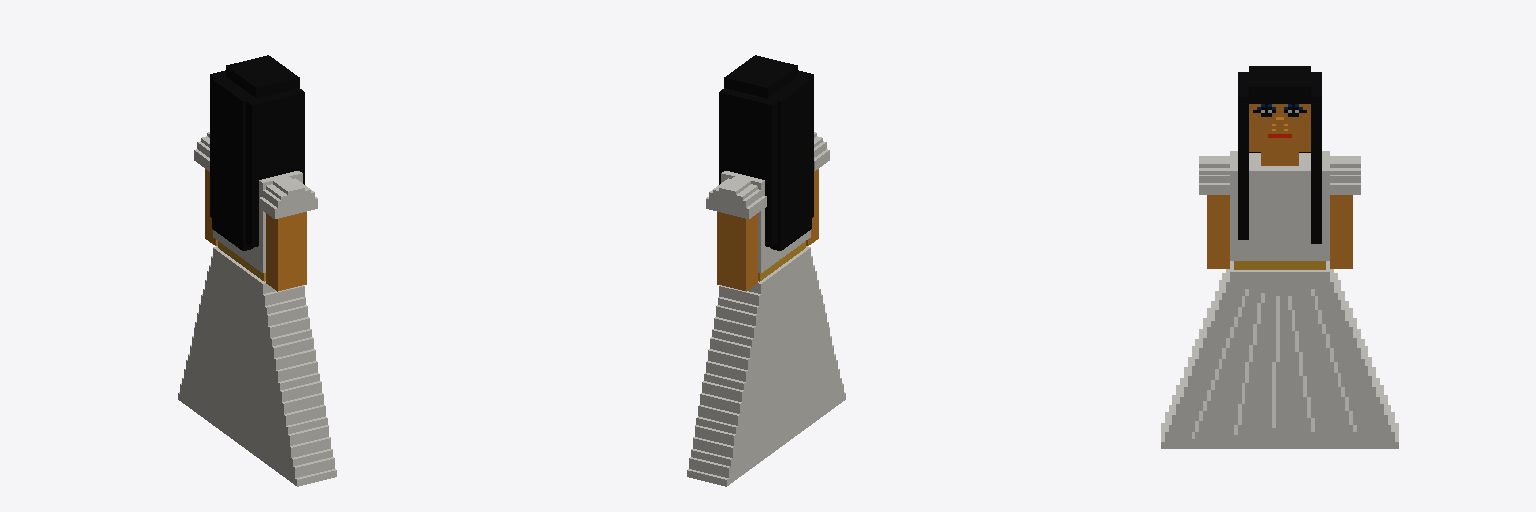
3 renders of one model, left to right at view 1: azimuth 30°, elevation 25°; view 2: azimuth 150°, elevation 25°; view 3: azimuth 270°, elevation 25°, orthographic.
Visible parts, largest first — view 1: char_dea; view 2: char_dea; view 3: char_dea.
Boxes of the visible parts, <box> form: char_dea: <box>178,55,336,486</box>; char_dea: <box>687,55,845,486</box>; char_dea: <box>1161,66,1398,448</box>.
Size of the model in its own units: 17 by 105 by 62.
1 materials, 1 textured.